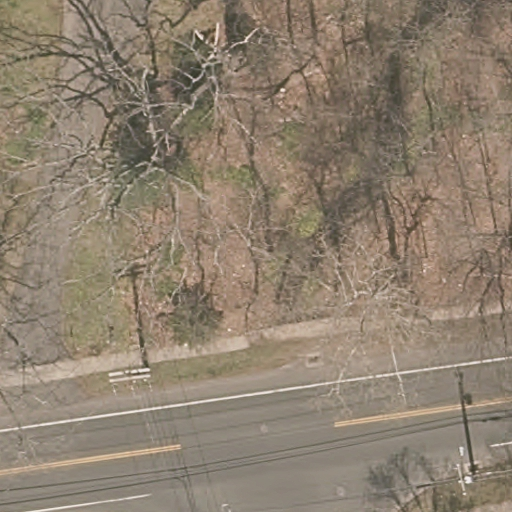DT: (108, 365, 151, 384), (454, 461, 470, 497)
